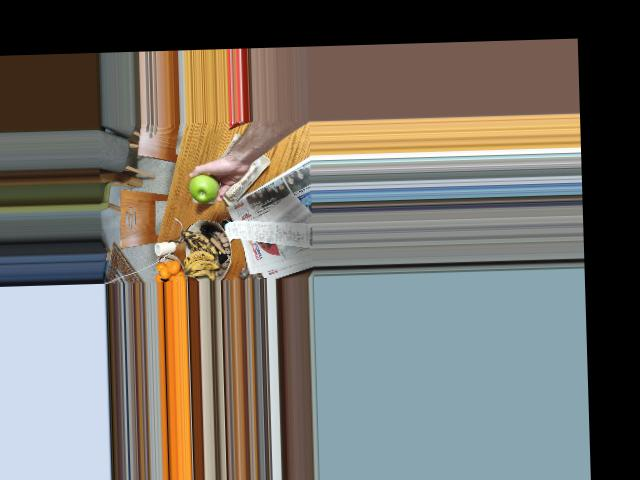apple: (187, 173, 221, 202)
